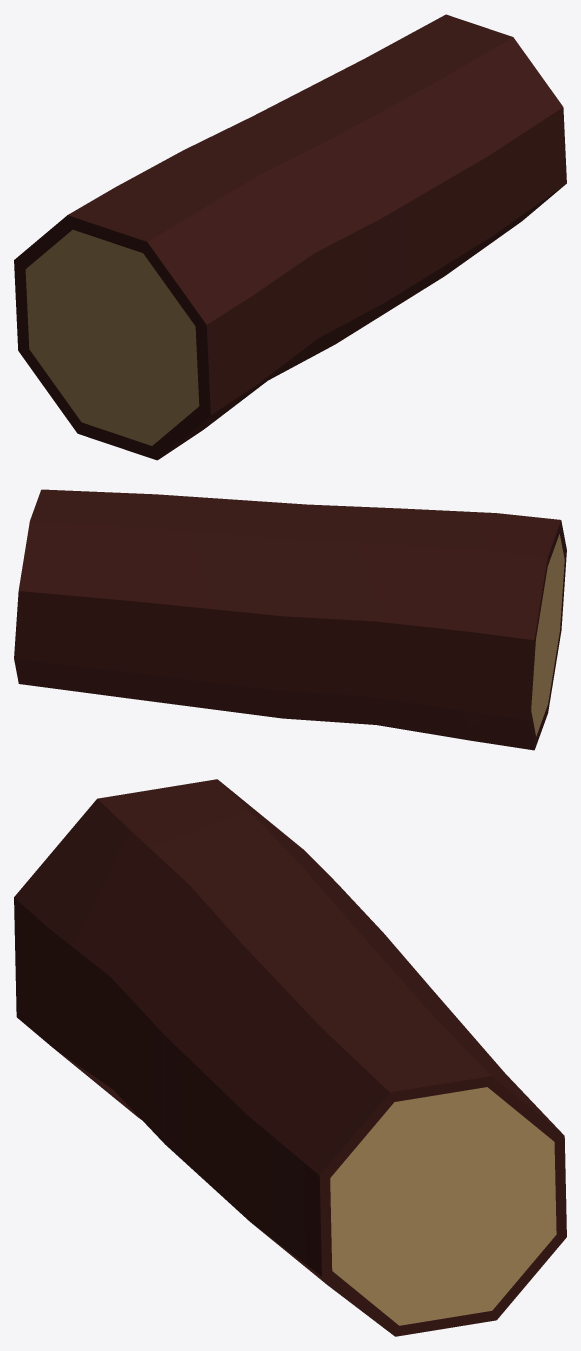
Rendered from SM_Campfire_02_Log_006.fbx.
3 views of the same model, one above another, from view 1: azimuth 30°, elevation 25°; view 2: azimuth 150°, elevation 25°; view 3: azimuth 270°, elevation 25° (orthographic). The views are drawn at different scales.
Visible parts, largest first — view 1: CampfireLog_006; view 2: CampfireLog_006; view 3: CampfireLog_006.
Part boxes in pixels (box(x1,y1,x2,y2)): CampfireLog_006: box(14, 14, 566, 460); CampfireLog_006: box(14, 489, 566, 750); CampfireLog_006: box(14, 779, 566, 1336).
Size of the model in its own units: 29.26 by 11.36 by 19.84.
